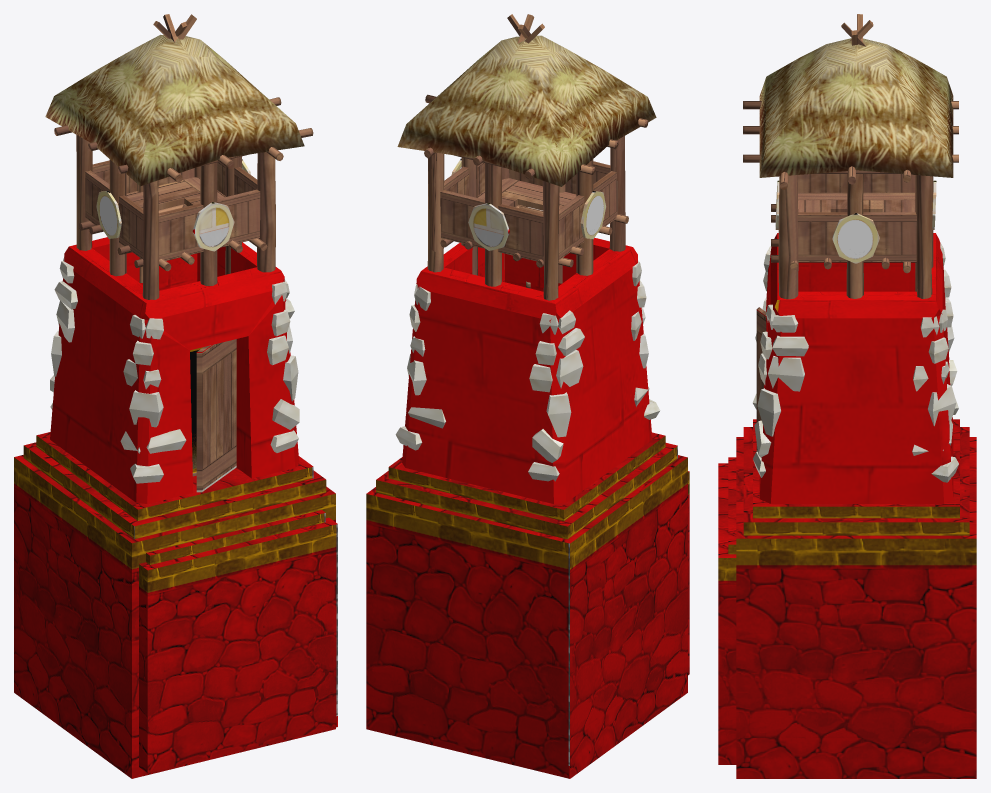
Rendered from zapo_wooden_tower.dae.
The picture shows the model from 3 angles, left to right: view 1: azimuth 30°, elevation 25°; view 2: azimuth 150°, elevation 25°; view 3: azimuth 270°, elevation 25°; orthographic projection. The views are drawn at different scales.
Parts seen in each view (by area): view 1: Cube_001; view 2: Cube_001; view 3: Cube_001.
Part boxes in pixels (x1,y1,x2,y2): Cube_001: (14, 14, 337, 778); Cube_001: (366, 14, 689, 778); Cube_001: (718, 14, 976, 778).
Bounding box in the file's own units: 7.64 × 8.22 × 24.77.
